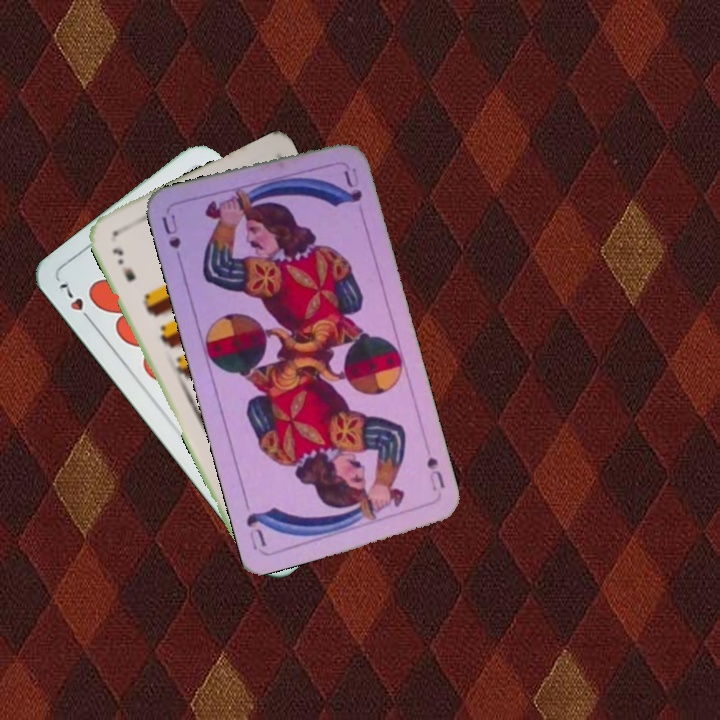E7: (108, 244, 138, 284)
H7: (55, 278, 97, 327)
SU: (157, 210, 184, 251), (422, 453, 448, 493)
